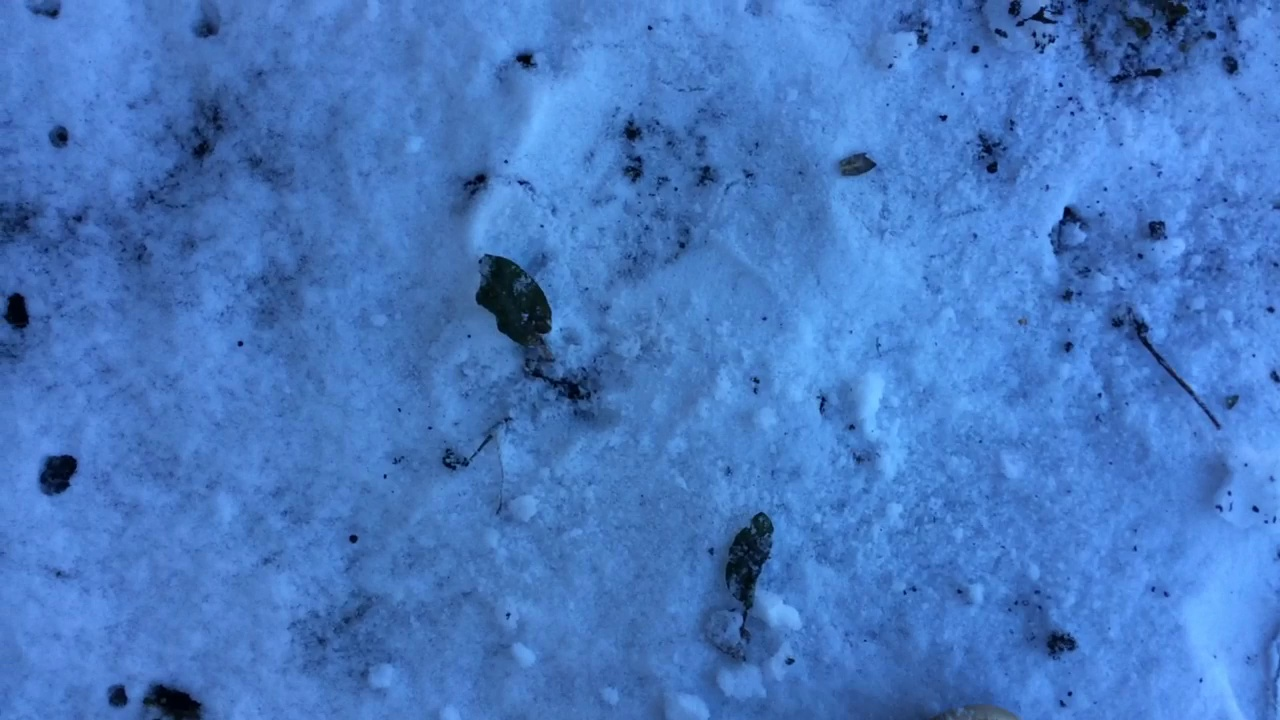root: (524, 355, 568, 383), (725, 618, 759, 652)
rumex: (467, 244, 570, 384), (719, 509, 782, 651)
